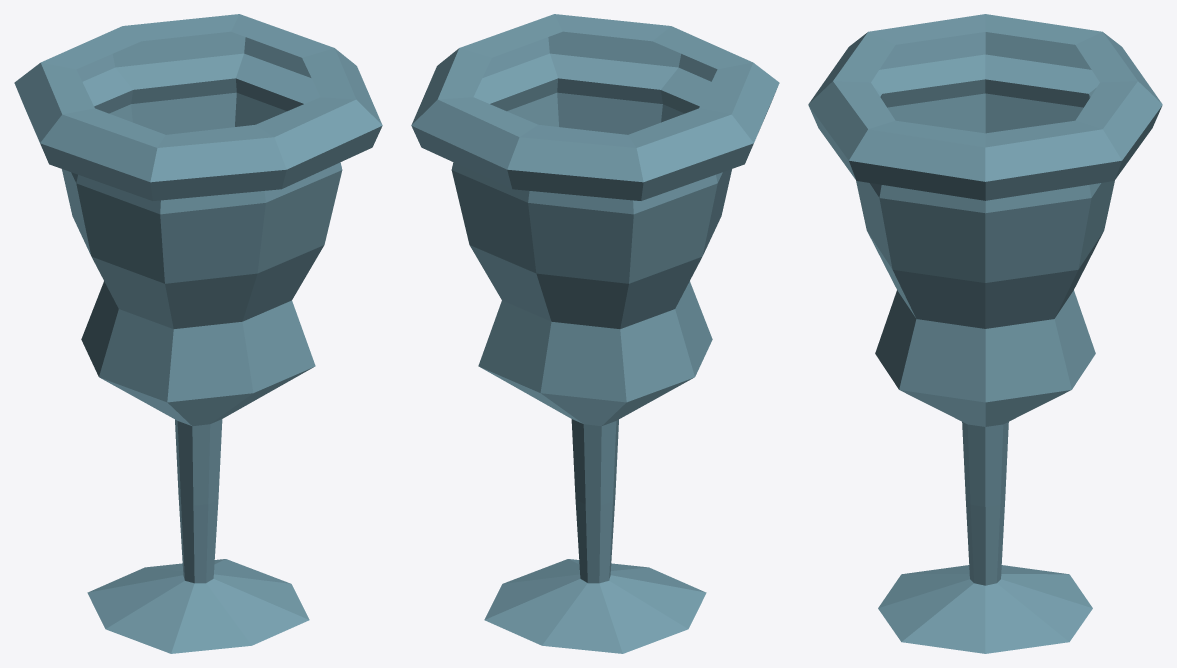
File: glass.glb
The picture shows the model from 3 angles, left to right: view 1: azimuth 30°, elevation 25°; view 2: azimuth 150°, elevation 25°; view 3: azimuth 270°, elevation 25°; orthographic projection.
Visible parts, largest first — view 1: Milkshake; view 2: Milkshake; view 3: Milkshake.
Part boxes in pixels (bbox=[...]): Milkshake: bbox=[14, 14, 382, 653]; Milkshake: bbox=[411, 14, 779, 653]; Milkshake: bbox=[808, 14, 1162, 653].
Size of the model in its own units: 0.1606 by 0.2544 by 0.1549.
Materials: 1 (1 with a texture image).
